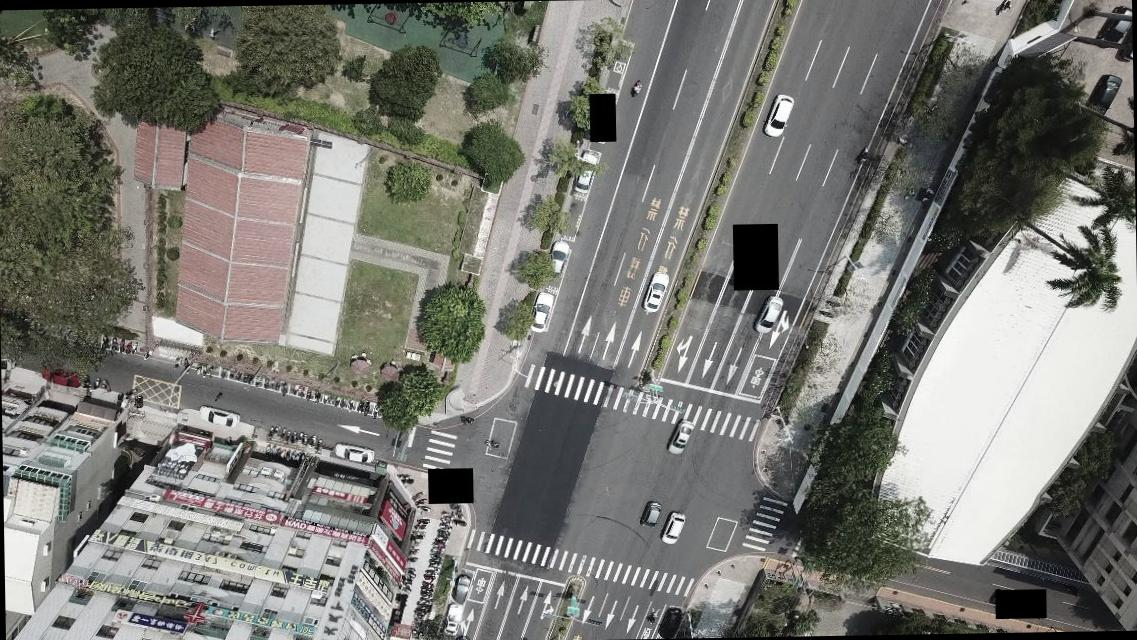vehicle: (1098, 4, 1132, 50), (763, 94, 793, 138), (1092, 74, 1122, 118), (572, 150, 599, 197), (641, 272, 671, 313), (754, 294, 784, 334), (198, 404, 241, 430), (528, 292, 554, 334), (666, 421, 694, 454), (658, 604, 686, 637), (659, 511, 686, 545), (546, 240, 570, 278), (334, 442, 375, 464), (41, 368, 81, 388), (450, 575, 472, 605), (444, 605, 465, 635), (640, 500, 661, 528)
